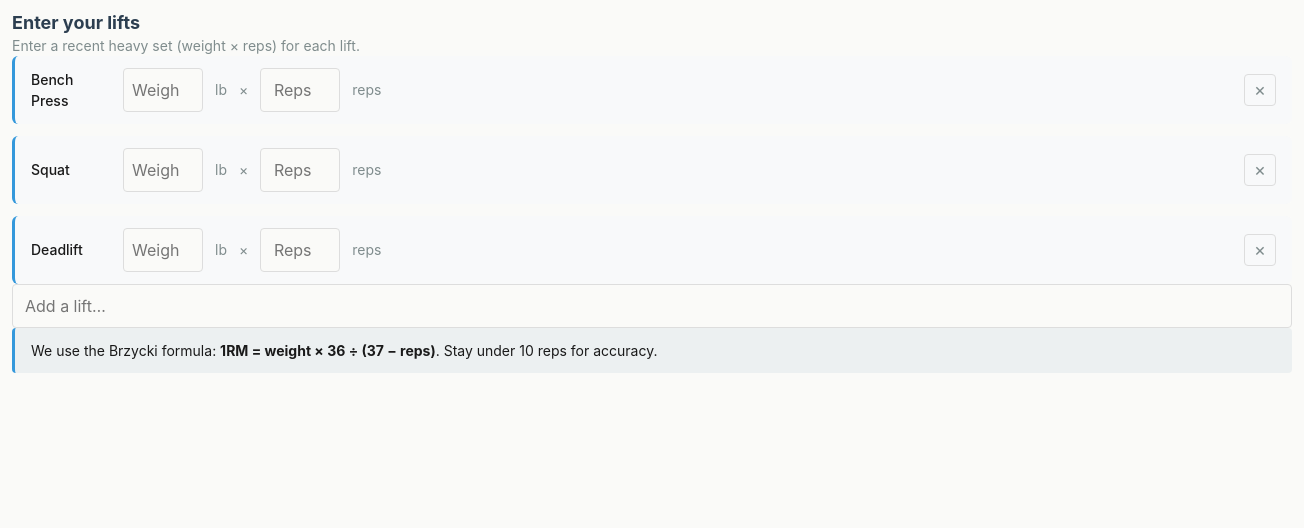
StepLifts — add a lift › appends a catalog lift selected from the picker
Expected: the text "Overhead Press" is not shown
Type "overhead" into the dropdown labelled "Add a lift". click: x=652, y=306
box: [12,284,1292,328]
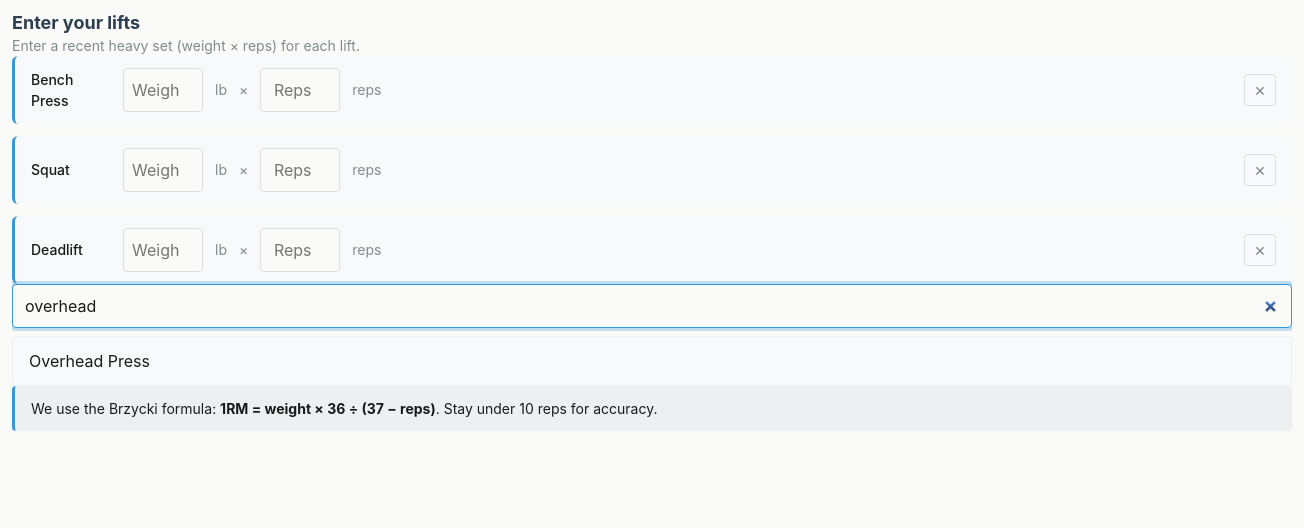
Click the option "Overhead Press". click: x=89, y=360
box: [13,336,1291,384]
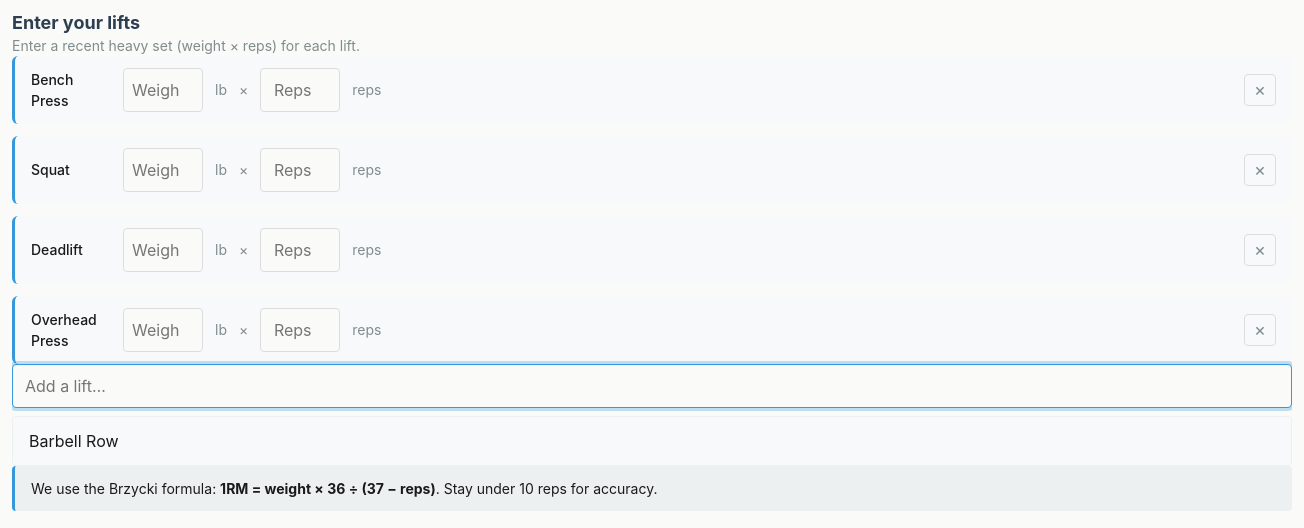
Expected: the text "Overhead Press" is shown, [31,310,97,348]
Expected: the number field named "Overhead Press weight" is shown, [123,308,203,352]
